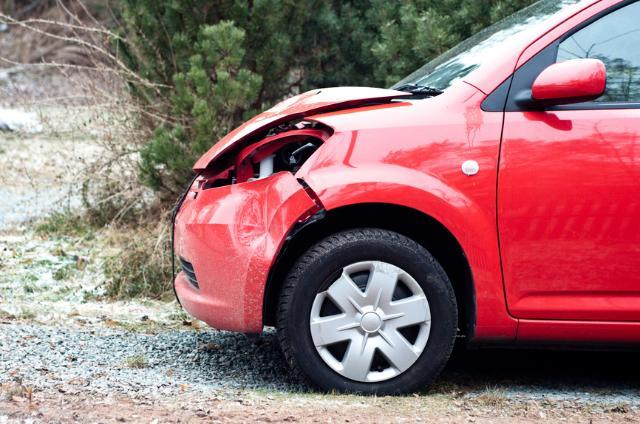Bumper: (217, 183, 294, 260)
Light: (203, 131, 323, 183)
